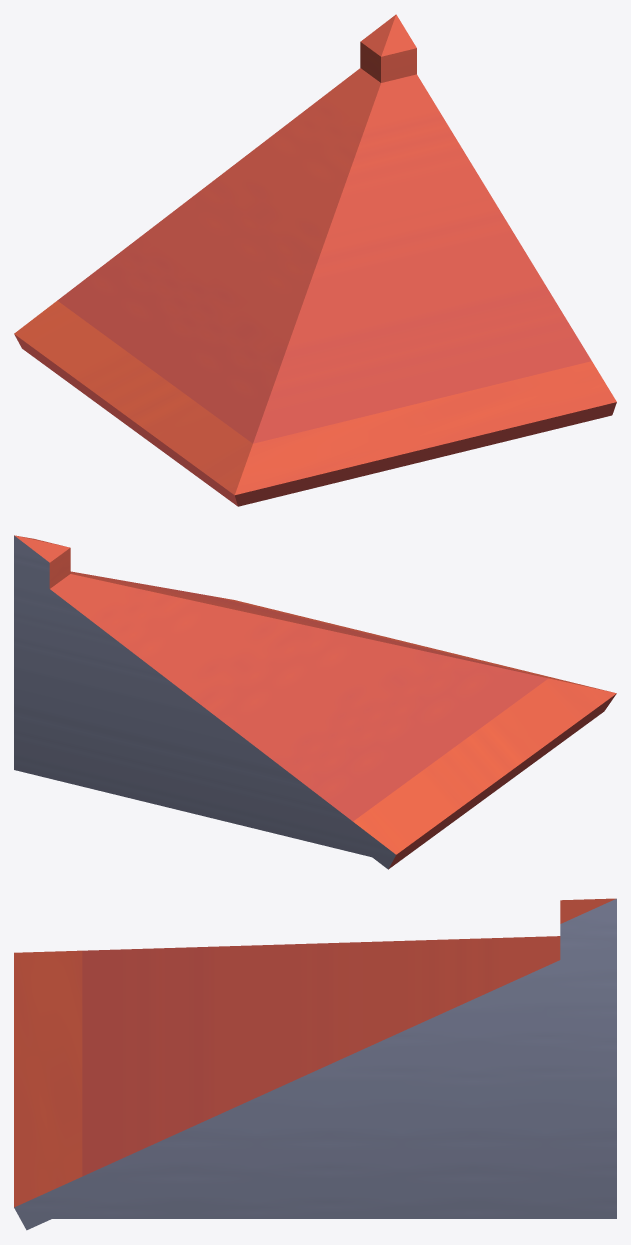
File: roofCorner.fbx
3 renders of one model, top to bottom at view 1: azimuth 30°, elevation 25°; view 2: azimuth 150°, elevation 25°; view 3: azimuth 270°, elevation 25°, orthographic. The views are drawn at different scales.
Visible parts, largest first — view 1: roofCorner; view 2: roofCorner; view 3: roofCorner.
Part boxes in pixels (bbox=[...]): roofCorner: bbox=[14, 14, 616, 506]; roofCorner: bbox=[14, 535, 616, 869]; roofCorner: bbox=[14, 898, 616, 1230].
Bounding box in the file's own units: 1.07 × 1.07 × 0.6483.
